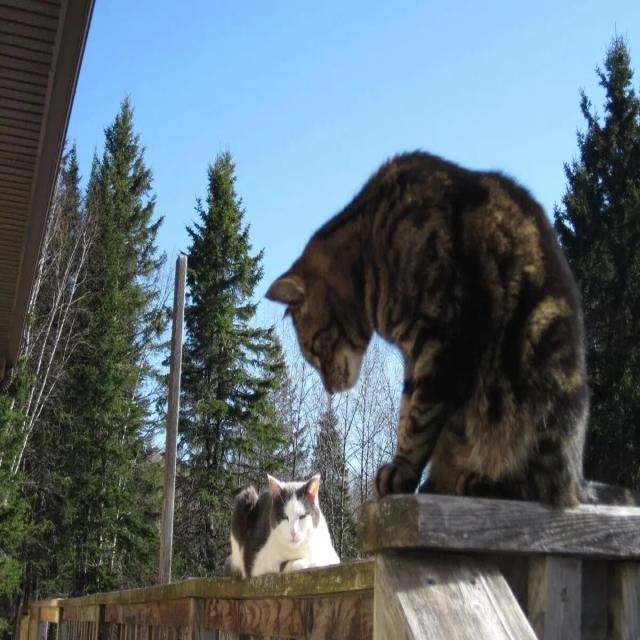cat: (268, 152, 589, 506), (224, 474, 339, 578)
